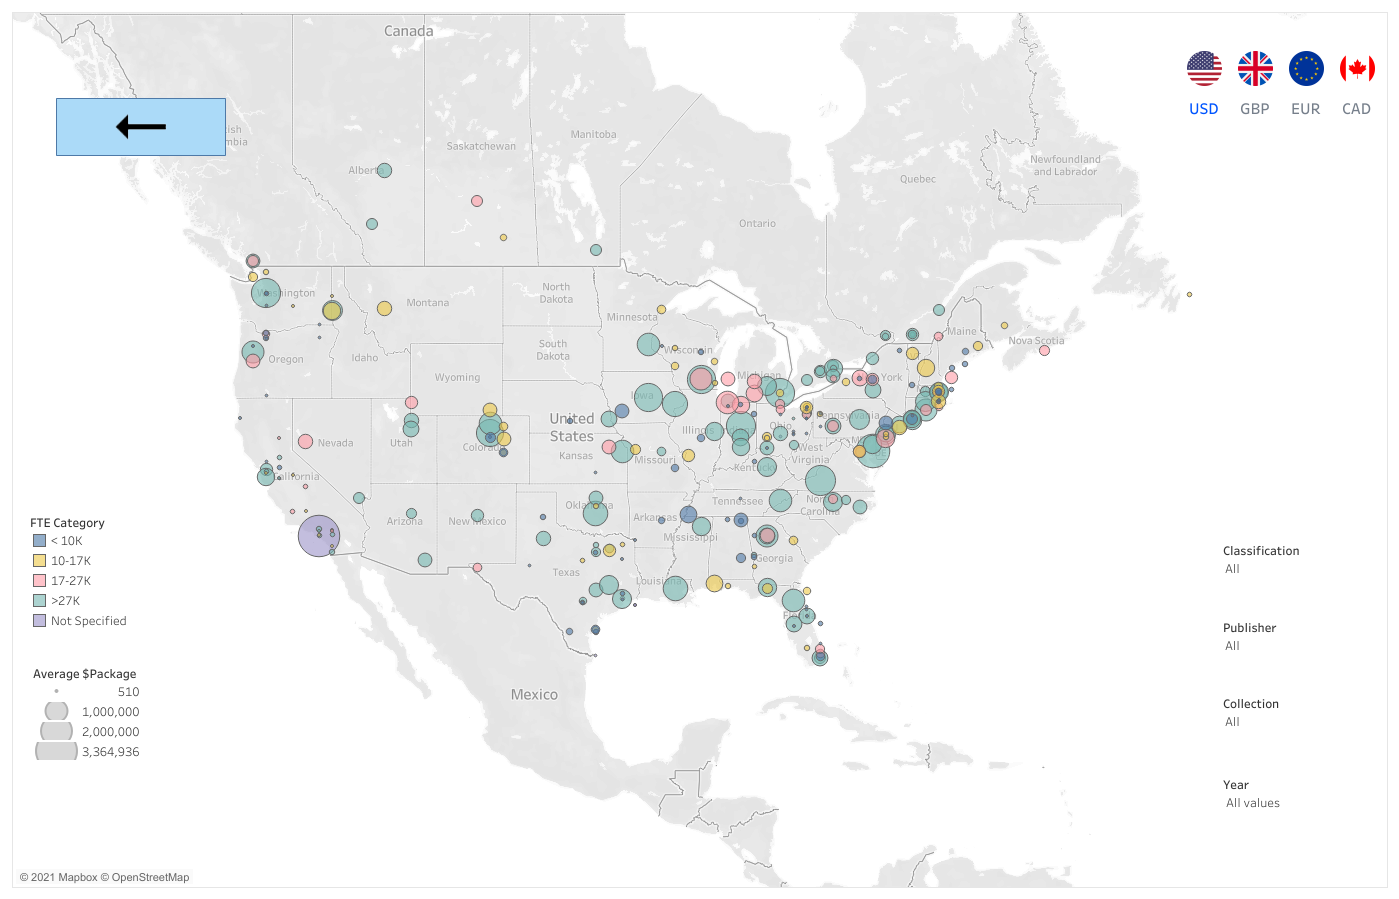

Layout of this report page (visuals, bound fields, positions):
{"tool":"tableau","page":{"name":"Map","canvas":[1400,900],"ordinal":2},"visuals":[{"type":"worksheet","box":[0,0,1400,900]},{"type":"worksheet","param":"horz","box":[8,8,1384,884]},{"type":"worksheet","param":"horz","box":[8,8,1187,884]},{"type":"worksheet","box":[8,8,1187,884]},{"type":"worksheet","param":"horz","box":[8,8,1187,884]},{"type":"worksheet","box":[8,8,1187,884]},{"type":"worksheet","title":"North America","mark":"Automatic","rows":["Calculation_660621788693241883"],"cols":["Calculation_660621788694663196"],"box":[8,8,1187,884]},{"type":"worksheet","param":"vert","box":[1195,8,197,884]},{"type":"worksheet","box":[1195,8,197,29]},{"type":"worksheet","title":"Currency","mark":"Shape","cols":["Currency"],"box":[1195,37,197,42]},{"type":"worksheet","box":[1182,77,221,49]},{"type":"worksheet","title":"CurrencyLabel","mark":"Automatic","cols":["Currency"],"box":[1195,79,197,39]},{"type":"worksheet","box":[56,97.9,170.2,58.5]},{"type":"worksheet","title":"North America","mark":"Automatic","rows":["Calculation_660621788693241883"],"cols":["Calculation_660621788694663196"],"param":"[federated.1ilmw9q0gjl66f1c3u7oj002mgk7].[none:Calculation_901564367271174144:nk","box":[1195,118,197,225]},{"type":"worksheet","title":"North America","mark":"Automatic","rows":["Calculation_660621788693241883"],"cols":["Calculation_660621788694663196"],"param":"[federated.1ilmw9q0gjl66f1c3u7oj002mgk7].[avg:Calculation_684828639833743361:qk]","box":[1195,343,197,158]},{"type":"worksheet","box":[1195,501,197,67]},{"type":"worksheet","title":"North America","mark":"Automatic","rows":["Calculation_660621788693241883"],"cols":["Calculation_660621788694663196"],"param":"[federated.1ilmw9q0gjl66f1c3u7oj002mgk7].[none:Calculation_660621788619177999:nk","box":[1195,568,197,81]},{"type":"worksheet","title":"North America","mark":"Automatic","rows":["Calculation_660621788693241883"],"cols":["Calculation_660621788694663196"],"param":"[federated.1ilmw9q0gjl66f1c3u7oj002mgk7].[none:publisher:nk]","box":[1195,649,197,89]},{"type":"worksheet","title":"North America","mark":"Automatic","rows":["Calculation_660621788693241883"],"cols":["Calculation_660621788694663196"],"param":"[federated.1ilmw9q0gjl66f1c3u7oj002mgk7].[none:collection:nk]","box":[1195,738,197,81]},{"type":"worksheet","title":"North America","mark":"Automatic","rows":["Calculation_660621788693241883"],"cols":["Calculation_660621788694663196"],"param":"[federated.1ilmw9q0gjl66f1c3u7oj002mgk7].[none:Calculation_660621788678365210:qk","box":[1195,819,197,73]}]}

Visuals, with their boxes in screenshot pixels (x1, y1, x2, y2), scaled from the page's 1400x900 canvas onto the 1399x899 screenshot:
worksheet: (0,0,1398,898)
worksheet: (8,8,1391,891)
worksheet: (8,8,1194,891)
worksheet: (8,8,1194,891)
worksheet: (8,8,1194,891)
worksheet: (8,8,1194,891)
"North America" worksheet: (8,8,1194,891)
worksheet: (1194,8,1391,891)
worksheet: (1194,8,1391,37)
"Currency" worksheet (Shape marks): (1194,37,1391,79)
worksheet: (1181,77,1398,126)
"CurrencyLabel" worksheet: (1194,79,1391,118)
worksheet: (56,98,226,156)
"North America" worksheet: (1194,118,1391,343)
"North America" worksheet: (1194,343,1391,500)
worksheet: (1194,500,1391,567)
"North America" worksheet: (1194,567,1391,648)
"North America" worksheet: (1194,648,1391,737)
"North America" worksheet: (1194,737,1391,818)
"North America" worksheet: (1194,818,1391,891)
